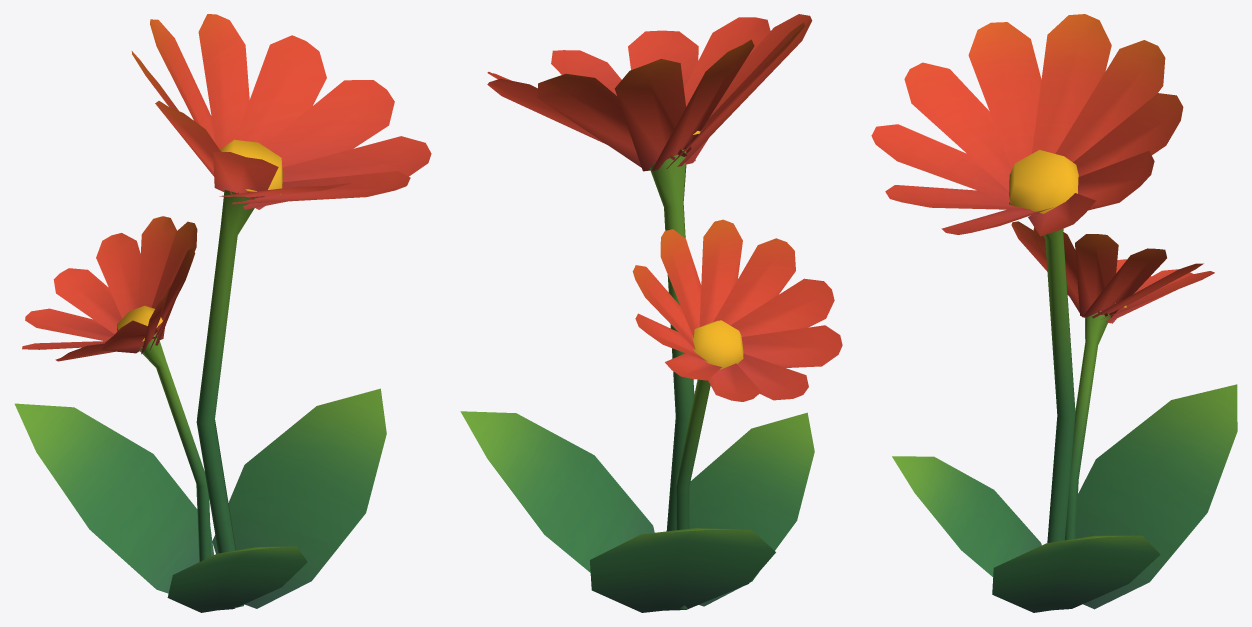
The model's file is flower_010_base_material_0.fbx.
3 renders of one model, left to right at view 1: azimuth 30°, elevation 25°; view 2: azimuth 150°, elevation 25°; view 3: azimuth 270°, elevation 25°, orthographic. The views are drawn at different scales.
Visible parts, largest first — view 1: flower_010_base_material_0; view 2: flower_010_base_material_0; view 3: flower_010_base_material_0.
Boxes of the visible parts, x1,y1,x2,y2 form: flower_010_base_material_0: (14, 14, 431, 612); flower_010_base_material_0: (460, 14, 842, 612); flower_010_base_material_0: (871, 14, 1237, 612).
Bounding box in the file's own units: 1.57 × 1.47 × 2.45.
Materials: 1 (1 with a texture image).
